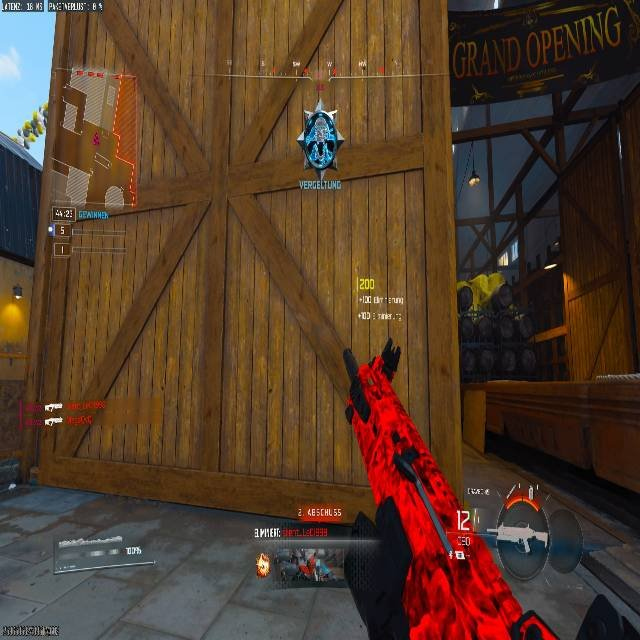player: (296, 100, 341, 171)
